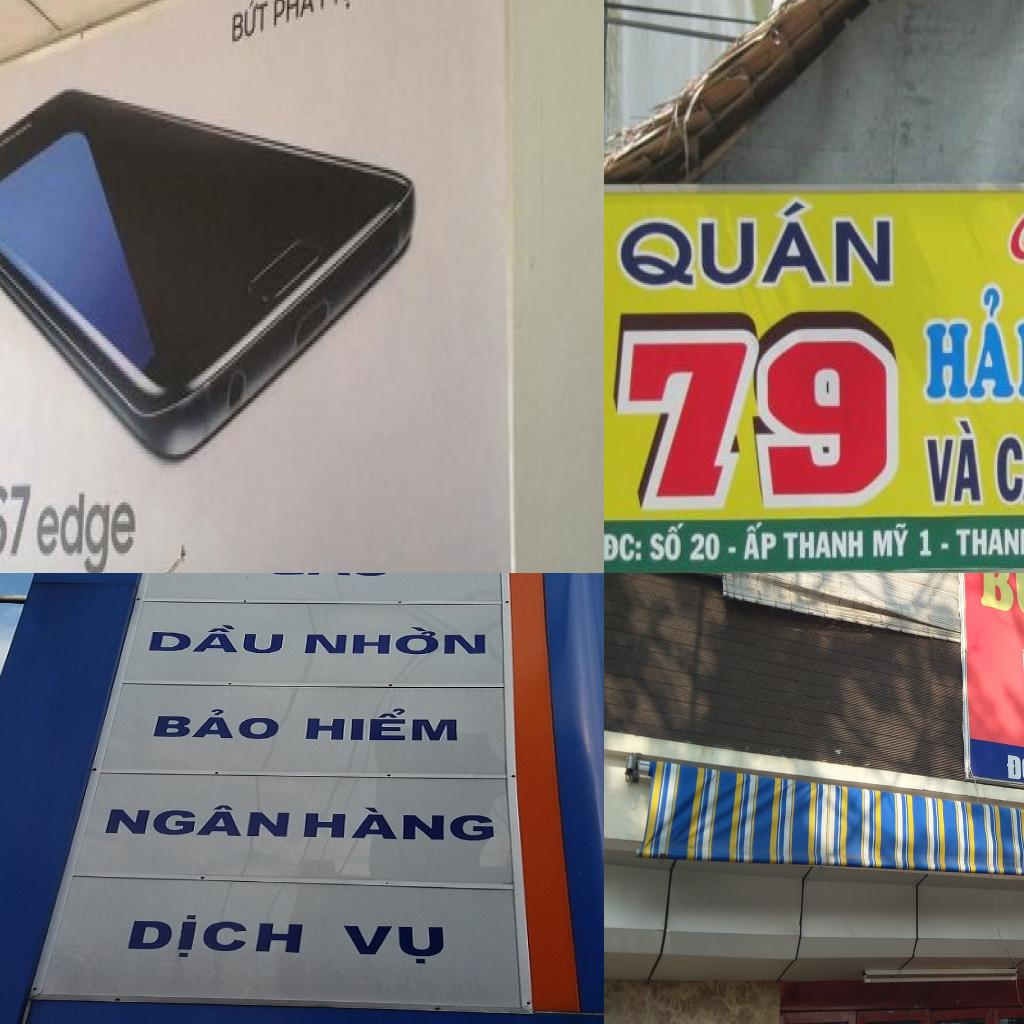text: (608, 324, 901, 515), (618, 198, 894, 295), (921, 279, 1024, 407), (114, 908, 316, 962), (32, 486, 147, 573), (297, 801, 502, 848), (100, 796, 293, 838), (298, 699, 470, 744), (301, 623, 493, 658), (919, 414, 984, 506), (143, 620, 293, 658), (145, 704, 287, 744), (972, 573, 1024, 639), (781, 525, 868, 563), (992, 410, 1024, 508), (0, 475, 33, 566), (255, 573, 398, 594), (953, 525, 1024, 559), (229, 0, 273, 51), (870, 520, 912, 563), (688, 528, 738, 564), (648, 520, 687, 566), (742, 518, 780, 564), (273, 0, 317, 36), (604, 528, 643, 566), (916, 526, 954, 562), (318, 0, 364, 22), (1004, 750, 1024, 790)
